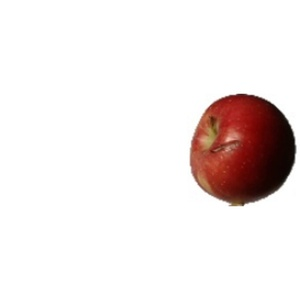maçã braeburn: (188, 93, 296, 202)
